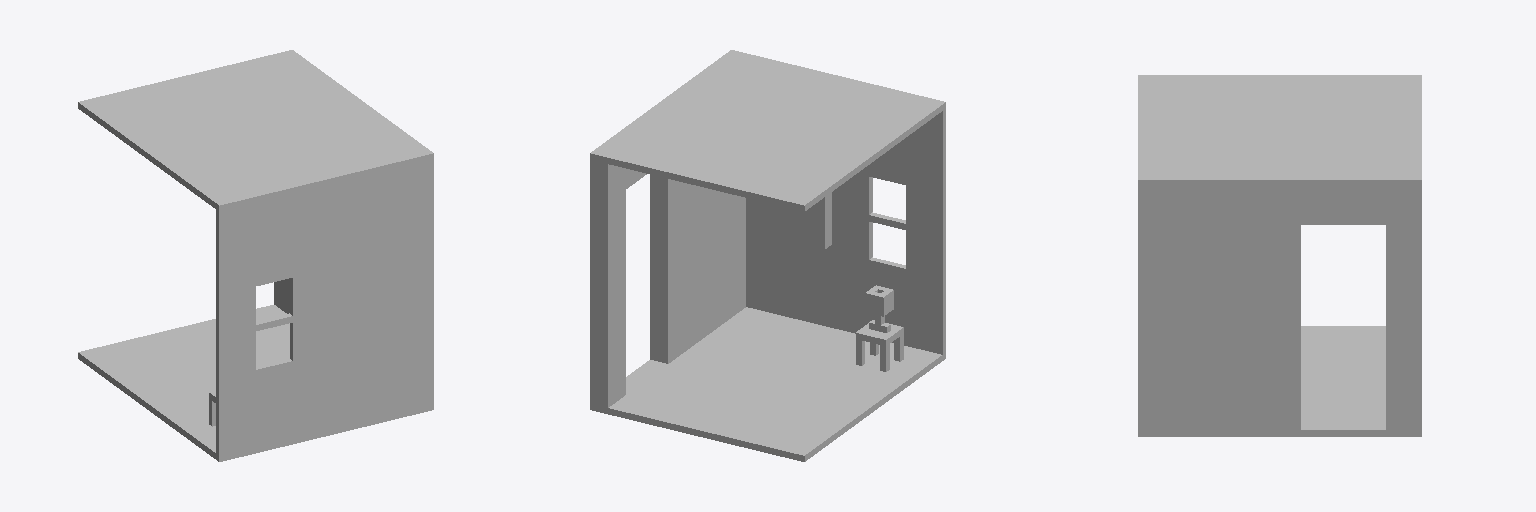
Rendered from closet c.obj.
The picture shows the model from 3 angles: view 1: azimuth 30°, elevation 25°; view 2: azimuth 150°, elevation 25°; view 3: azimuth 270°, elevation 25°; orthographic projection.
Visible parts, largest first — view 1: object 1; view 2: object 1; view 3: object 1.
Boxes of the visible parts, x1,y1,x2,y2 form: object 1: [78, 50, 433, 461]; object 1: [590, 50, 945, 461]; object 1: [1138, 75, 1421, 436].
Bounding box in the file's own units: 3.5 × 4 × 4.